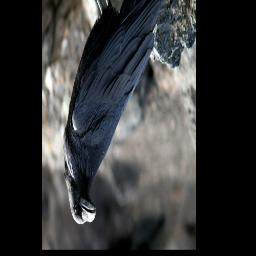Crow: (62, 0, 194, 226)
